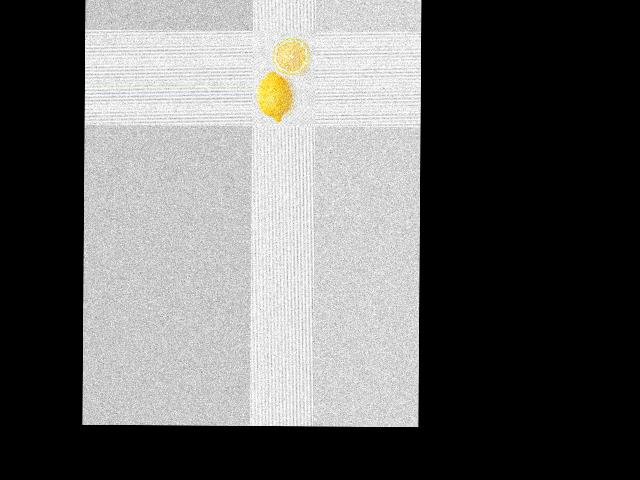lemon: (253, 66, 290, 121)
